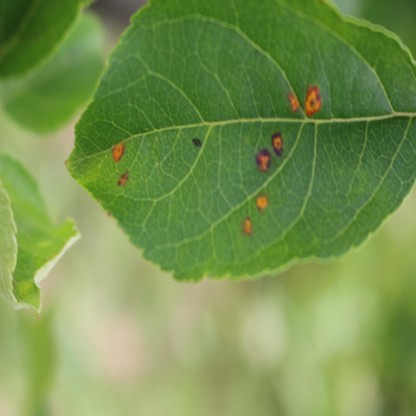rust: (304, 85, 319, 114), (256, 149, 272, 171), (271, 133, 283, 155), (111, 143, 123, 162), (287, 91, 299, 110), (257, 195, 268, 213), (242, 215, 251, 235), (117, 171, 128, 185)
